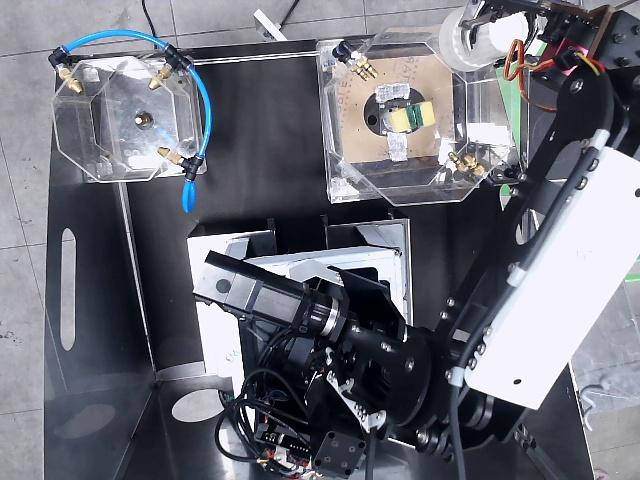cup: (439, 8, 527, 71)
